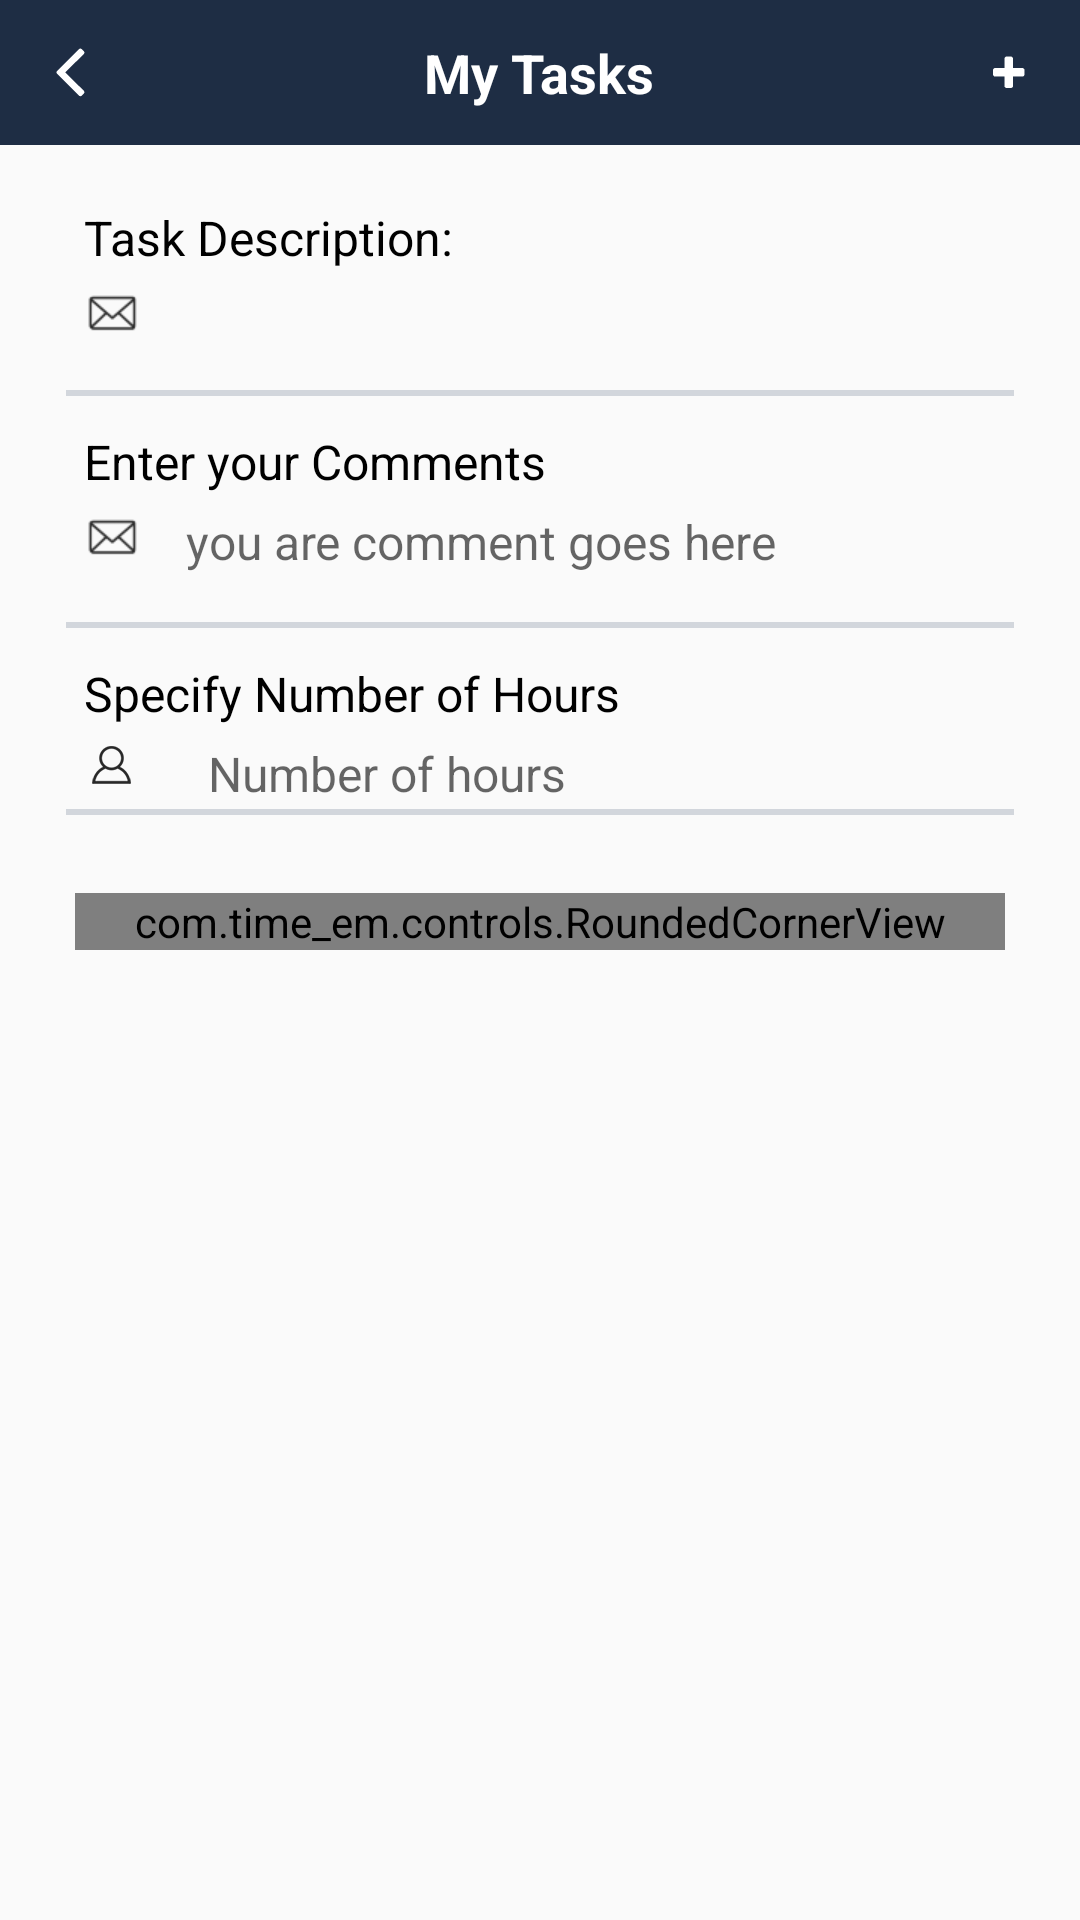

Where icons sit on this 1080 × 1920 app screen, as (x1, y1, x2, y2):
add: (993, 56, 1025, 88)
email: (88, 295, 137, 331), (88, 519, 137, 555)
user: (92, 746, 131, 784)
